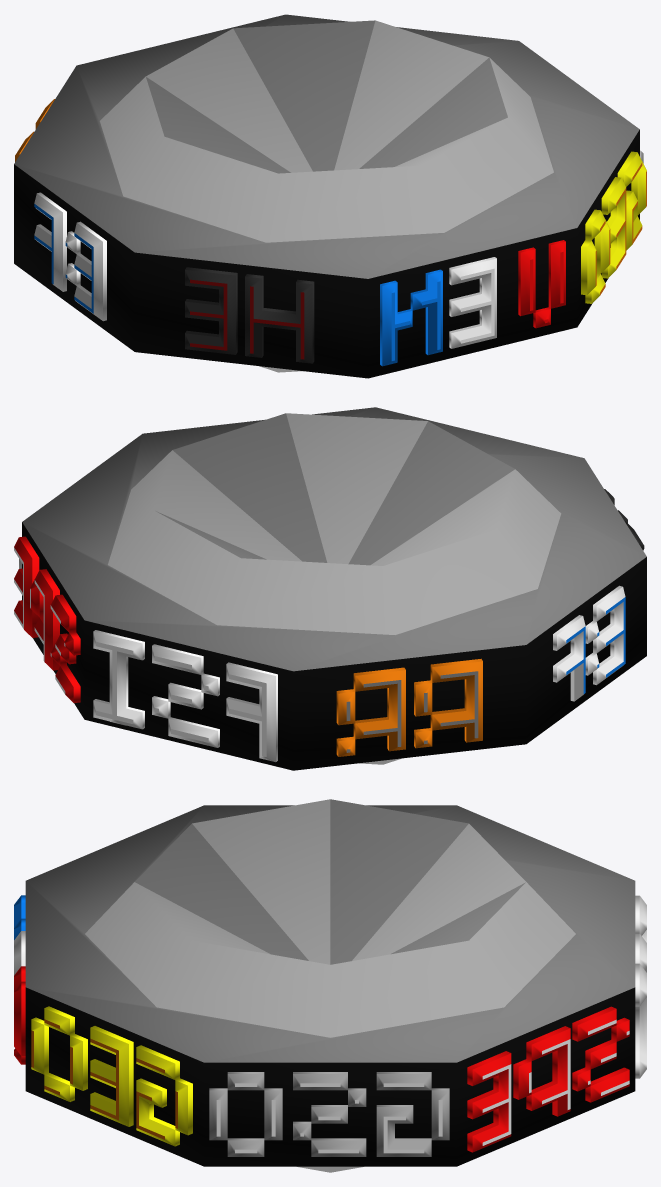
File: FSI_Term_Ant_Spin.obj
The picture shows the model from 3 angles, top to bottom: view 1: azimuth 30°, elevation 25°; view 2: azimuth 150°, elevation 25°; view 3: azimuth 270°, elevation 25°; orthographic projection. The views are drawn at different scales.
Parts seen in each view (by area): view 1: Cylinder_Cylinder.003, Text.002_CUText.005, Text.004_CUText.007, Text.003_CUText.006, Text.000_CUText.004; view 2: Cylinder_Cylinder.003, Text_CUText.003, Text.006_CUText.009, Text.005_CUText.008, Text.000_CUText.004; view 3: Cylinder_Cylinder.003, Text.001_CUText.003, Text.005_CUText.008, Text.003_CUText.006, Text_CUText.003, Text.002_CUText.005.
Part boxes in pixels (x1,y1,x2,y2): Cylinder_Cylinder.003: (14,14,639,378); Text.002_CUText.005: (380,240,565,366); Text.004_CUText.007: (185,267,314,363); Text.003_CUText.006: (581,151,646,303); Text.000_CUText.004: (34,192,106,321); Cylinder_Cylinder.003: (22,407,646,770); Text_CUText.003: (93,630,277,762); Text.006_CUText.009: (336,658,482,756); Text.005_CUText.008: (14,536,80,702); Text.000_CUText.004: (553,585,625,701); Cylinder_Cylinder.003: (25,799,635,1172); Text.001_CUText.003: (209,1072,449,1156); Text.005_CUText.008: (467,1006,629,1152); Text.003_CUText.006: (31,1006,192,1146); Text_CUText.003: (635,895,646,1078); Text.002_CUText.005: (14,895,25,1064).
Size of the model in its own units: 1.77 by 0.64 by 1.77.
2 materials, 2 textured.
